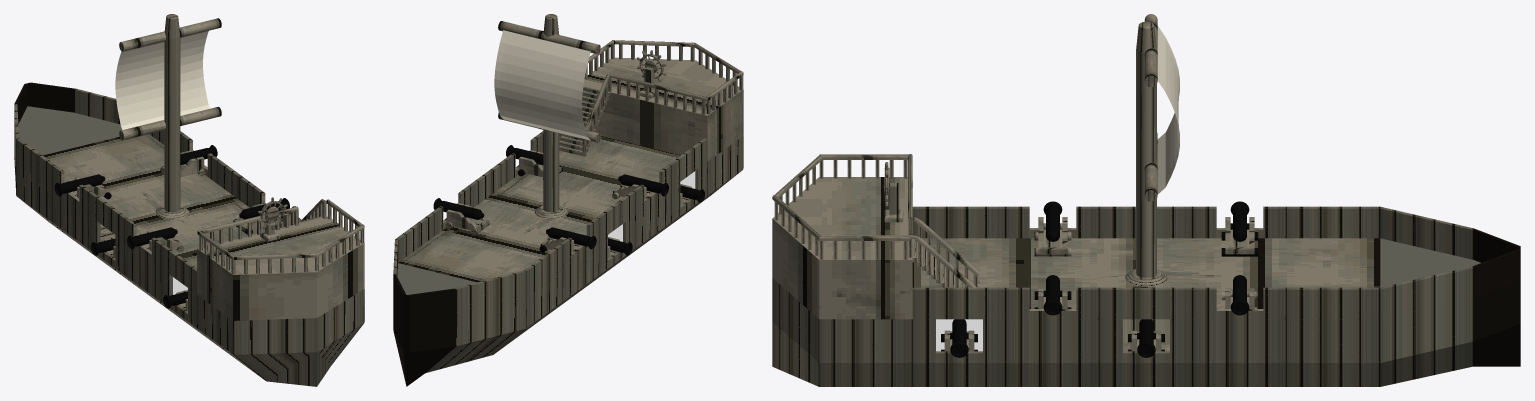
File: sloop.glb
3 views of the same model, side by side, from view 1: azimuth 30°, elevation 25°; view 2: azimuth 150°, elevation 25°; view 3: azimuth 270°, elevation 25° (orthographic). The views are drawn at different scales.
Visible parts, largest first — view 1: CaptainCabin, Plane.003, HullFull.002, Sail, Mast, LowerHullCannon.001, HullFull.003, HullFull.001, UpperHullCannon.001, UpperHullCannon, LowerHullCannon, SailRig (+8 smaller); view 2: Plane.003, CaptainCabin, HullFull.003, Sail, HullFull.001, LowerHullCannon.001, UpperHullCannon.001, UpperHullCannon, Mast, LowerHullCannon, HullFull.002, Cannon.004 (+8 smaller); view 3: Plane.003, CaptainCabin, HullFull.003, HullFull.001, LowerHullCannon.001, LowerHullCannon, HullFull.002, UpperHullCannon, UpperHullCannon.001, Mast, Sail, Cannon.005 (+8 smaller).
Part boxes in pixels (x1=…): CaptainCabin: x1=197, y1=199, x2=364, y2=320; Plane.003: x1=18, y1=106, x2=265, y2=267; HullFull.002: x1=197, y1=289, x2=364, y2=386; Sail: x1=115, y1=30, x2=209, y2=129; Mast: x1=155, y1=14, x2=188, y2=218; LowerHullCannon.001: x1=88, y1=160, x2=255, y2=300; HullFull.003: x1=14, y1=82, x2=120, y2=194; HullFull.001: x1=16, y1=130, x2=183, y2=246; UpperHullCannon.001: x1=52, y1=133, x2=219, y2=272; UpperHullCannon: x1=124, y1=186, x2=286, y2=326; LowerHullCannon: x1=160, y1=218, x2=301, y2=351; SailRig: x1=119, y1=18, x2=221, y2=51; Plane.003: x1=397, y1=136, x2=680, y2=294; CaptainCabin: x1=559, y1=40, x2=743, y2=161; HullFull.003: x1=393, y1=239, x2=526, y2=386; Sail: x1=494, y1=30, x2=590, y2=140; HullFull.001: x1=395, y1=213, x2=562, y2=352; LowerHullCannon.001: x1=467, y1=160, x2=635, y2=299; UpperHullCannon.001: x1=431, y1=186, x2=598, y2=326; UpperHullCannon: x1=504, y1=133, x2=671, y2=273; Mast: x1=534, y1=14, x2=567, y2=218; LowerHullCannon: x1=540, y1=131, x2=707, y2=245; HullFull.002: x1=676, y1=136, x2=743, y2=220; Cannon.004: x1=433, y1=198, x2=490, y2=235; Plane.003: x1=912, y1=238, x2=1480, y2=308; CaptainCabin: x1=772, y1=154, x2=980, y2=319; HullFull.003: x1=1380, y1=206, x2=1520, y2=386; HullFull.001: x1=1286, y1=206, x2=1380, y2=386; LowerHullCannon.001: x1=1099, y1=206, x2=1193, y2=386; LowerHullCannon: x1=912, y1=206, x2=1006, y2=386; HullFull.002: x1=772, y1=278, x2=912, y2=386; UpperHullCannon: x1=1006, y1=206, x2=1099, y2=386; UpperHullCannon.001: x1=1193, y1=206, x2=1286, y2=386; Mast: x1=1125, y1=21, x2=1167, y2=286; Sail: x1=1157, y1=26, x2=1179, y2=194; Cannon.005: x1=1034, y1=201, x2=1071, y2=256.
Bounding box in the file's own units: 5.02 × 8.09 × 16.
Materials: 5 (2 with a texture image).
